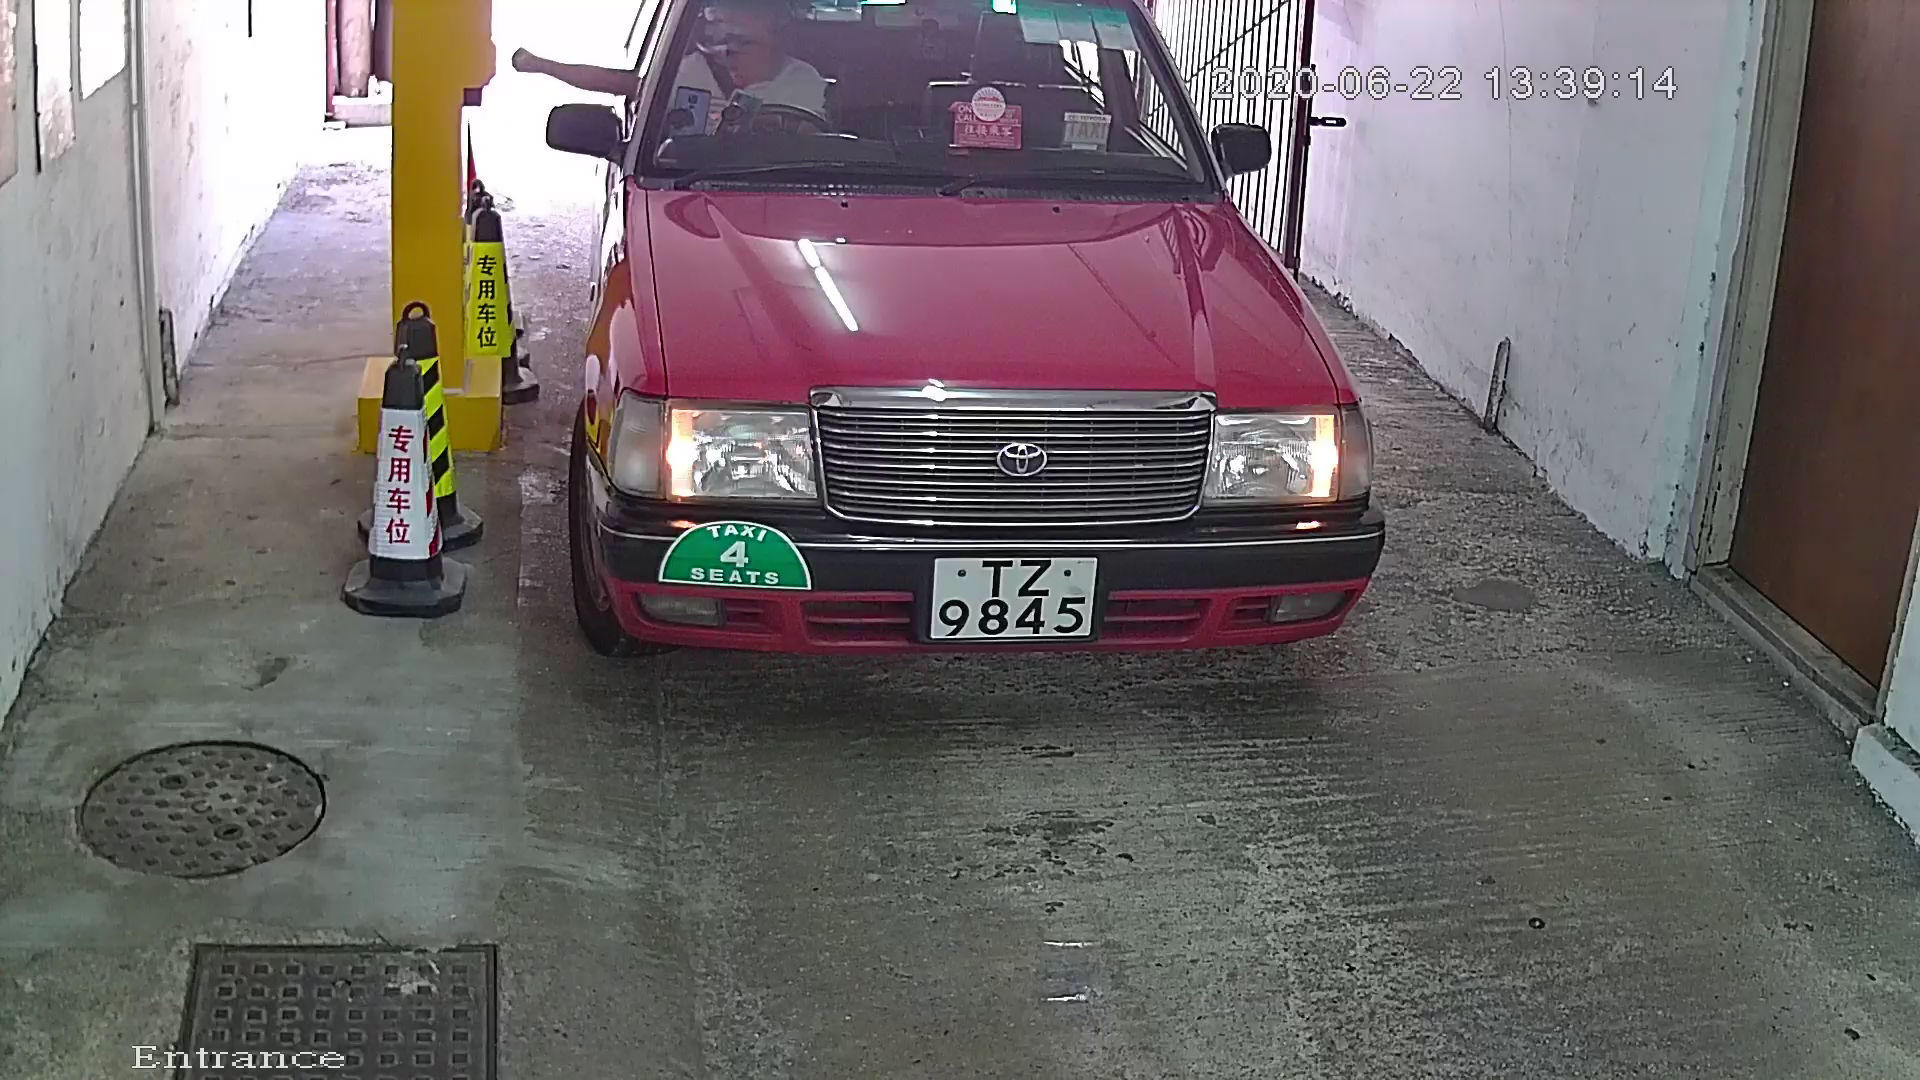taxi: (541, 3, 1458, 737)
taxi_mark: (647, 498, 853, 622)
